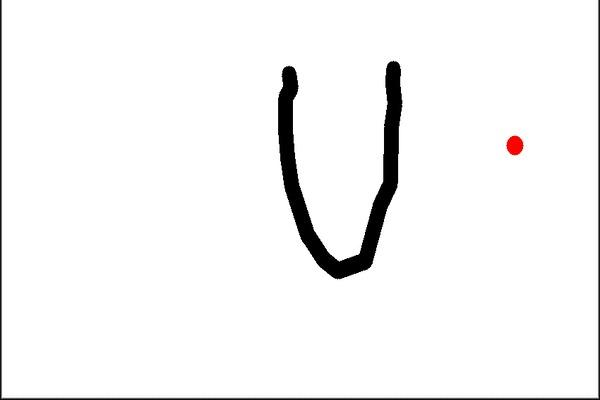U: (261, 50, 403, 288)
